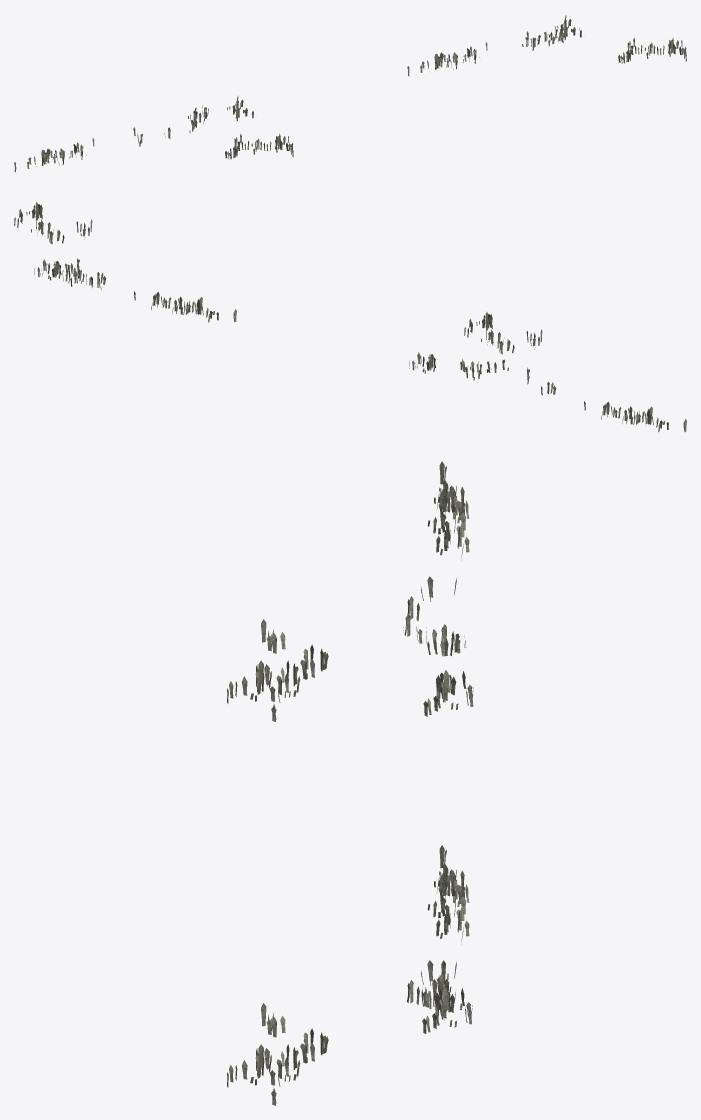
The model's file is Grass_03.fbx.
3 renders of one model, top to bottom at view 1: azimuth 30°, elevation 25°; view 2: azimuth 150°, elevation 25°; view 3: azimuth 270°, elevation 25°, orthographic. The views are drawn at different scales.
Parts seen in each view (by area): view 1: Grass_03; view 2: Grass_03; view 3: Grass_03.
Part boxes in pixels (left/top/right/bottom): Grass_03: left=14, top=15, right=686, bottom=172; Grass_03: left=14, top=201, right=686, bottom=432; Grass_03: left=227, top=461, right=473, bottom=1105.
Size of the model in its own units: 2186 by 80.11 by 372.
